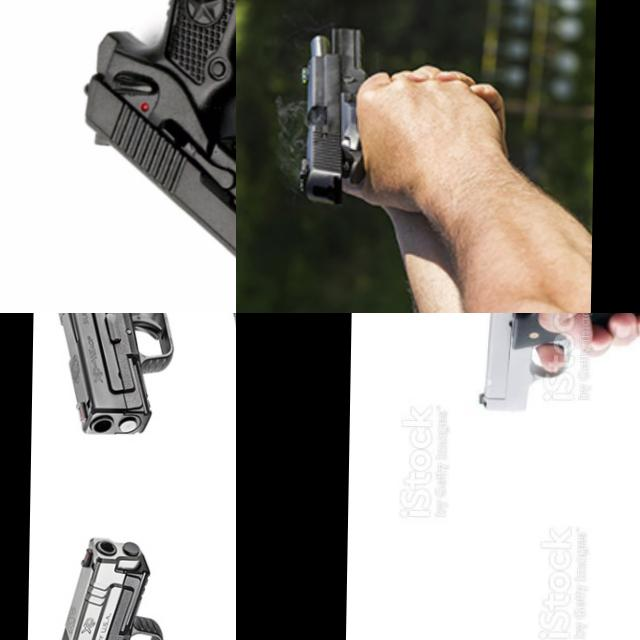handgun: (69, 0, 236, 313), (30, 313, 212, 437), (25, 530, 218, 640), (290, 20, 372, 212), (474, 313, 575, 415)
